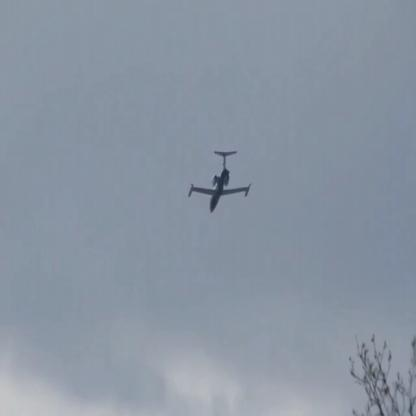CIV_Plane: (187, 146, 252, 214)
